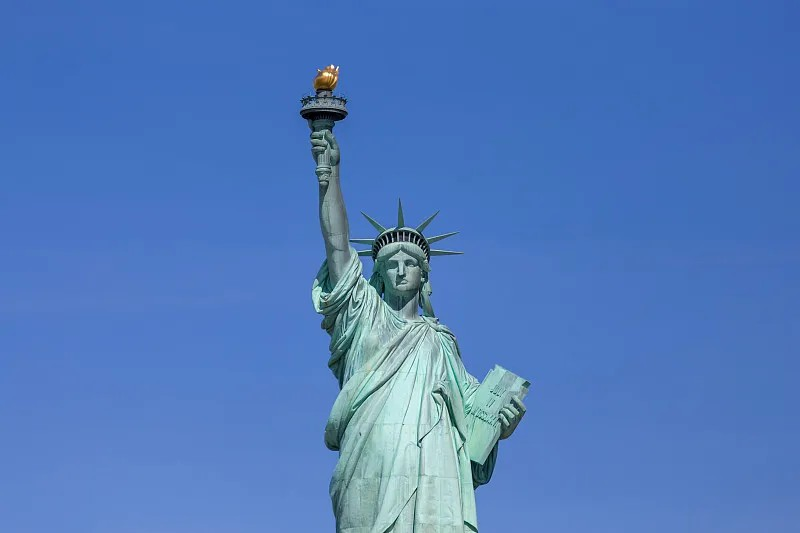SL: (299, 63, 532, 533)
